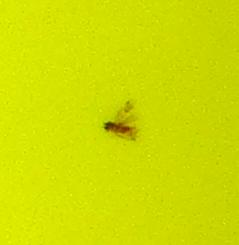Hemiptera: (100, 100, 139, 145)
